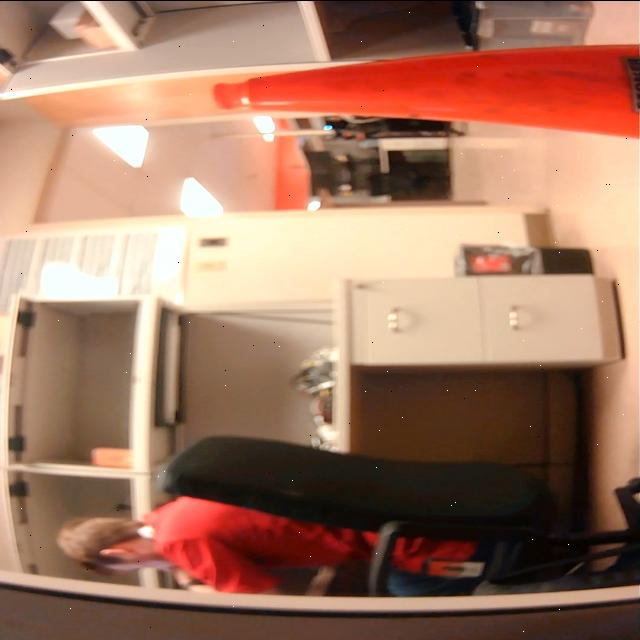traffic cone: (199, 30, 640, 148)
